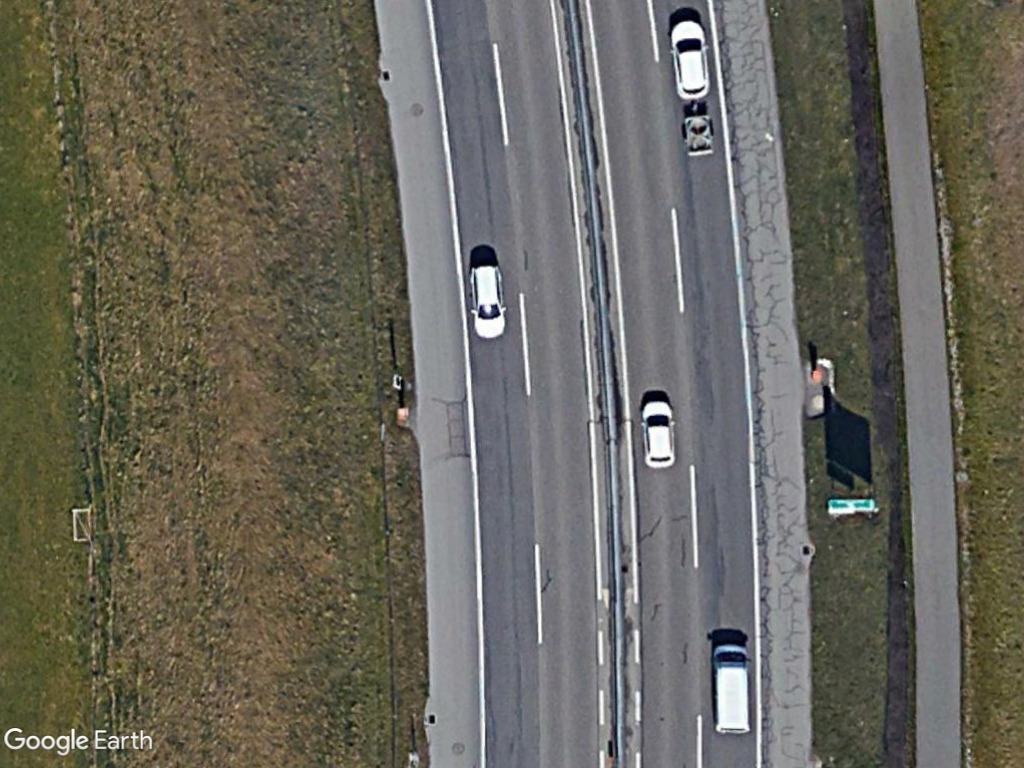car: (666, 17, 714, 102), (468, 261, 508, 341), (639, 396, 680, 471)
van: (708, 637, 754, 738)
